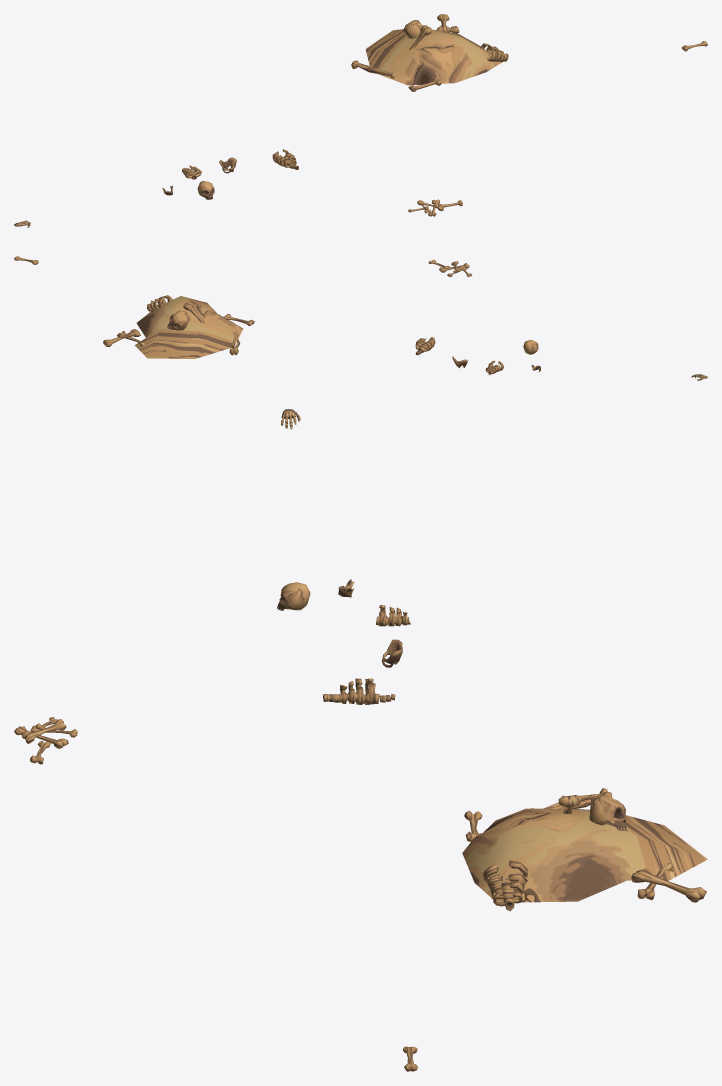
File: BONES.fbx
The picture shows the model from 3 angles, top to bottom: view 1: azimuth 30°, elevation 25°; view 2: azimuth 150°, elevation 25°; view 3: azimuth 270°, elevation 25°; orthographic projection. The views are drawn at different scales.
Visible parts, largest first — view 1: SM_PROP_skeleton_bonepile_dungeon_01.001, SM_PROP_skeleton_bone_pile_dungeon; view 2: SM_PROP_skeleton_bonepile_dungeon_01.001, SM_PROP_skeleton_bone_pile_dungeon, SM_PROP_skeleton_ribs_dungeon_01.001; view 3: SM_PROP_skeleton_bonepile_dungeon_01.001, SM_PROP_skeleton_bone_pile_dungeon, SM_PROP_skeleton_ribs_dungeon_01.001.
Boxes of the visible parts, bbox=[...] form: SM_PROP_skeleton_bonepile_dungeon_01.001: bbox=[351, 14, 508, 91]; SM_PROP_skeleton_bone_pile_dungeon: bbox=[408, 199, 462, 216]; SM_PROP_skeleton_bonepile_dungeon_01.001: bbox=[103, 295, 254, 358]; SM_PROP_skeleton_bone_pile_dungeon: bbox=[428, 259, 471, 277]; SM_PROP_skeleton_ribs_dungeon_01.001: bbox=[415, 337, 435, 355]; SM_PROP_skeleton_bonepile_dungeon_01.001: bbox=[462, 788, 707, 911]; SM_PROP_skeleton_bone_pile_dungeon: bbox=[14, 717, 77, 764]; SM_PROP_skeleton_ribs_dungeon_01.001: bbox=[323, 678, 395, 704].
Bounding box in the file's own units: 11.92 × 0.7391 × 5.6.
Materials: 3 (3 with a texture image).
